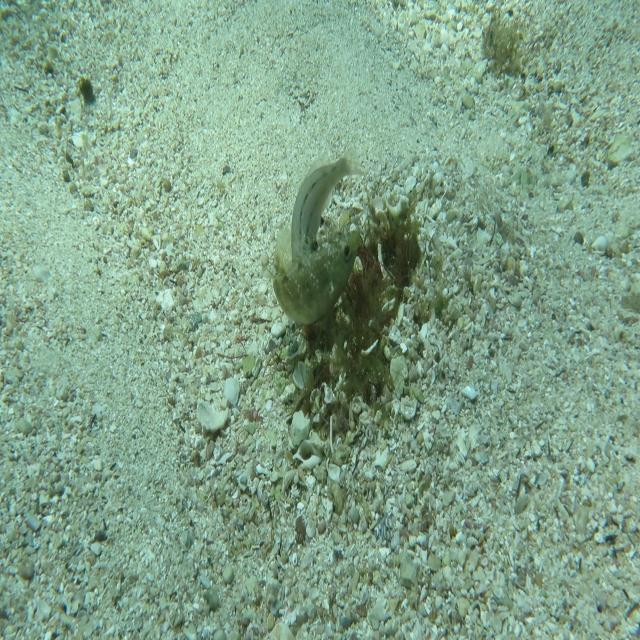DAN_CIRC: (270, 223, 361, 327)
core_nest: (358, 234, 404, 281)
female: (291, 144, 366, 266)
nest: (281, 168, 431, 440)
